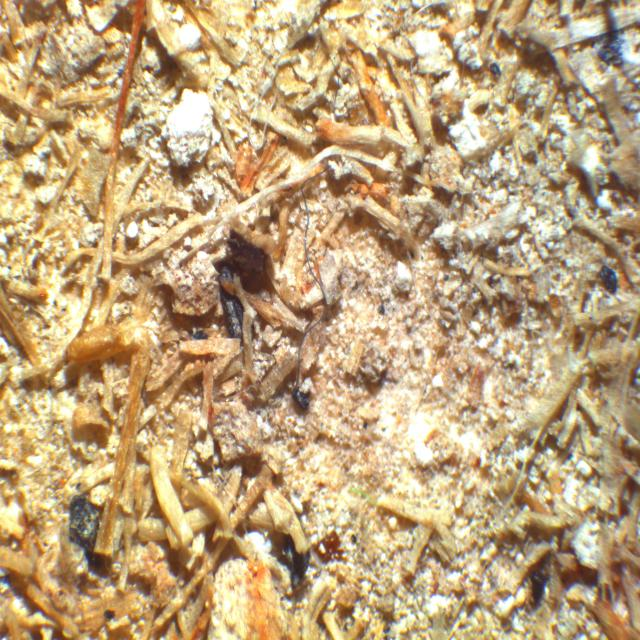microplastic: (293, 166, 331, 394)
